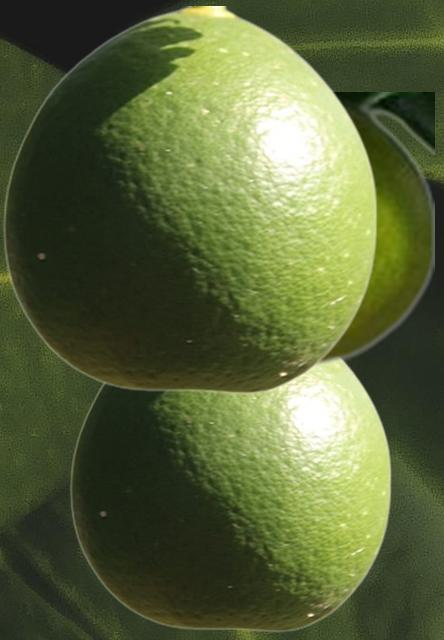dalandan: (2, 6, 377, 393), (69, 361, 391, 631), (316, 92, 433, 367)
